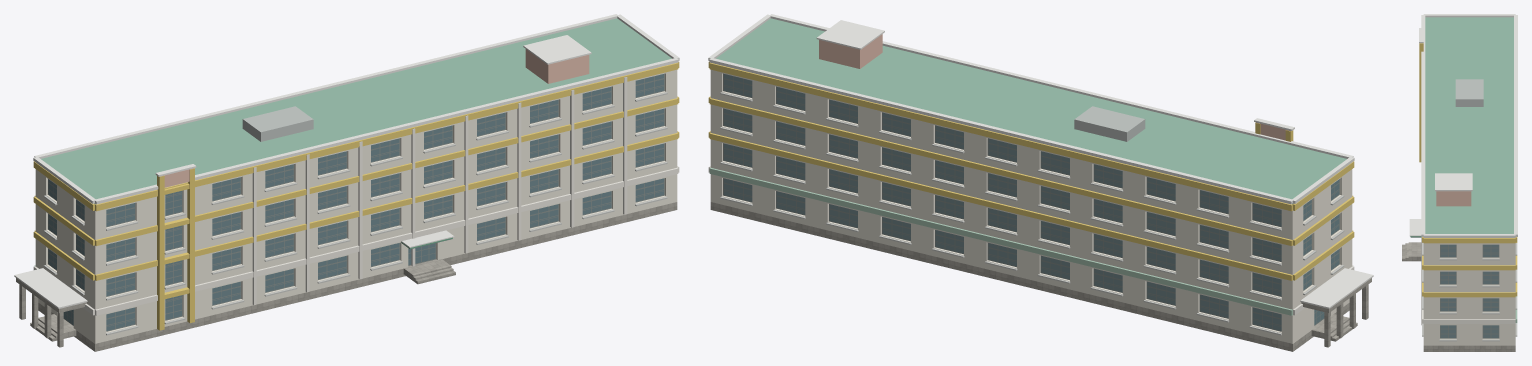
3 renders of one model, left to right at view 1: azimuth 30°, elevation 25°; view 2: azimuth 150°, elevation 25°; view 3: azimuth 270°, elevation 25°, orthographic. The views are drawn at different scales.
Parts seen in each view (by area): view 1: science-wing__panel, science-wing__roof, science-wing__glass, science-wing__ochre, science-wing__cap, science-wing__frame, science-wing__band, science-wing__stone, science-wing__sill, science-wing__steel, science-wing__salmon, science-wing__stair-south; view 2: science-wing__panel, science-wing__roof, science-wing__sideglass, science-wing__ochre, science-wing__frame, science-wing__cap, science-wing__stone, science-wing__sill, science-wing__mint, science-wing__steel, science-wing__salmon, science-wing__glass; view 3: science-wing__roof, science-wing__panel, science-wing__cap, science-wing__ochre, science-wing__sideglass, science-wing__frame, science-wing__steel, science-wing__sill, science-wing__stone, science-wing__band, science-wing__salmon, science-wing__threshold-south (+1 smaller).
Boxes of the visible parts, x1,y1,x2,y2 form: science-wing__panel: (35,69,677,343); science-wing__roof: (41,18,671,204); science-wing__glass: (48,74,663,330); science-wing__ochre: (33,62,679,330); science-wing__cap: (14,14,679,308); science-wing__frame: (48,73,664,331); science-wing__band: (33,77,679,315); science-wing__stone: (16,202,677,351); science-wing__sill: (43,92,667,335); science-wing__steel: (242,106,313,141); science-wing__salmon: (160,49,589,187); science-wing__stair-south: (411,264,455,284); science-wing__panel: (710,69,1352,343); science-wing__roof: (716,18,1346,204); science-wing__sideglass: (724,74,1281,330); science-wing__ochre: (708,62,1354,280); science-wing__frame: (723,73,1339,331); science-wing__cap: (708,14,1373,308); science-wing__stone: (710,202,1371,351); science-wing__sill: (720,92,1344,335); science-wing__mint: (709,167,1292,315); science-wing__steel: (1074,106,1145,141); science-wing__salmon: (819,34,1290,140); science-wing__glass: (1303,179,1339,324); science-wing__roof: (1425,17,1513,233); science-wing__panel: (1423,243,1515,345); science-wing__cap: (1409,14,1517,237); science-wing__ochre: (1419,43,1517,297); science-wing__sideglass: (1440,244,1498,337); science-wing__frame: (1440,244,1499,338); science-wing__steel: (1455,79,1483,106); science-wing__sill: (1422,243,1517,341); science-wing__stone: (1423,345,1515,351); science-wing__band: (1421,237,1515,325); science-wing__salmon: (1436,191,1471,206); science-wing__threshold-south: (1412,242,1421,261).
Bounding box in the file's own units: 62.72 × 16.7 × 13.23.
Materials: 16 (1 with a texture image).
